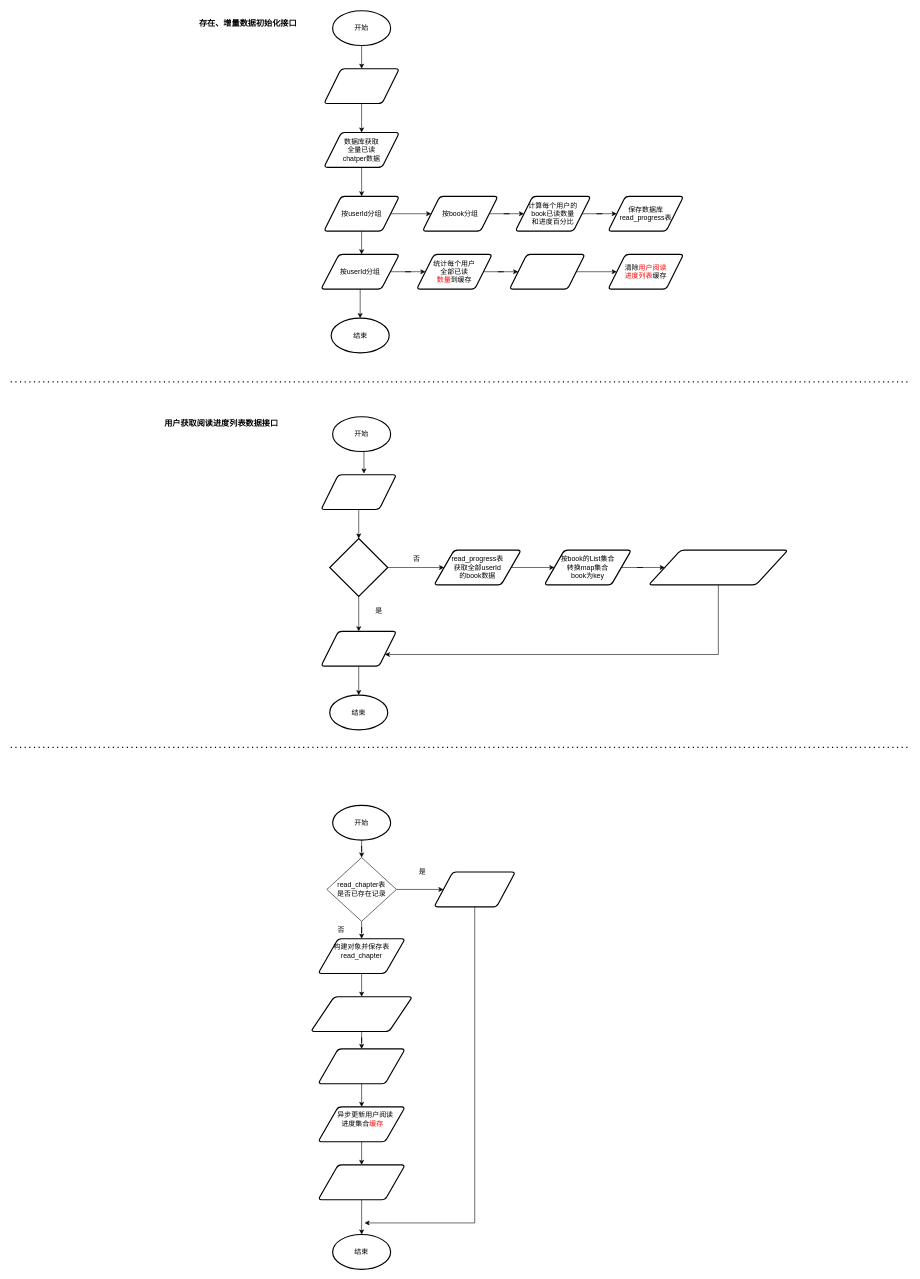
This 920x1279 diagram has some shape labels left out. Each missing label, with the centre of its shape:
"优先获取缓存 列表数据" belongs at [358,492].
"增量、全量 数据初始化" belongs at [361,86].
"排序和构建新旧约List集合 计算book列表、总进度百分比 总数量和List对象存入缓存" belongs at [718,567].
"更新 update_time 字段并返回" belongs at [474,889].
"更新read_progress表 对应book记录 的阅读进度" belongs at [361,1014].
"更新阅读总数数量 缓存 加一" belongs at [361,1066].
"统计每个用户 圣经 阅读百分比 到缓存" belongs at [547,271].
"缓存存在" belongs at [358,567].
"调用林茂接口， 计算是否达成成就 有的返回成就数据" belongs at [361,1182].
"返回列表数据" belongs at [358,648].
